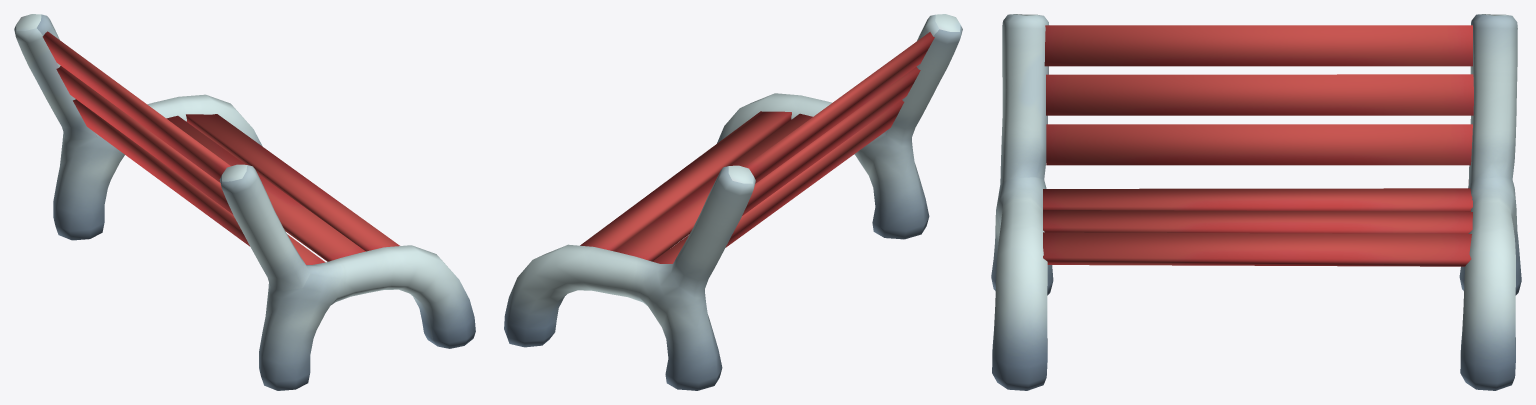
The model's file is m_Banc_01.fbx.
3 renders of one model, left to right at view 1: azimuth 30°, elevation 25°; view 2: azimuth 150°, elevation 25°; view 3: azimuth 270°, elevation 25°, orthographic. The views are drawn at different scales.
Visible parts, largest first — view 1: Banc; view 2: Banc; view 3: Banc.
Boxes of the visible parts, x1,y1,x2,y2 form: Banc: (14,14,475,390); Banc: (504,14,962,390); Banc: (991,14,1521,390).
Bounding box in the file's own units: 137 × 120 × 225.
